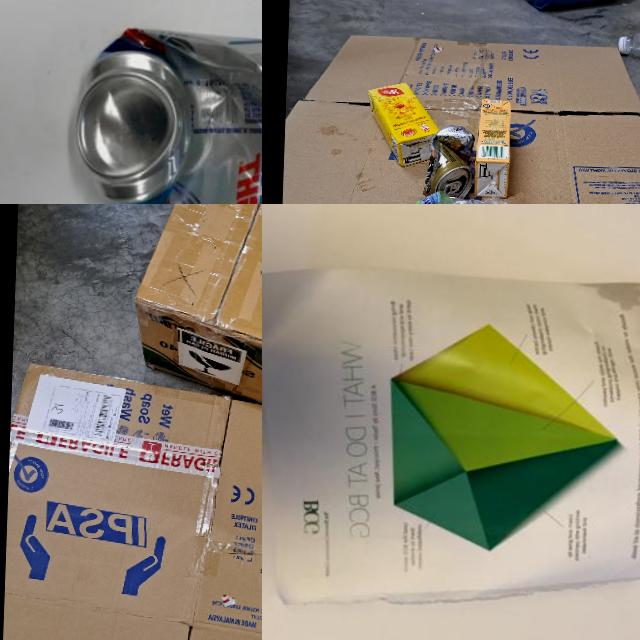aba de lata: (444, 180, 461, 196)
caixinha: (366, 82, 442, 168), (474, 99, 512, 197)
garrafa plástica: (626, 15, 640, 58)
lata: (71, 23, 262, 204), (422, 124, 475, 199)
papel: (262, 264, 640, 621)
papelão: (2, 366, 262, 640), (277, 34, 640, 204), (132, 204, 262, 410)
tampa plástica: (618, 36, 629, 53)
